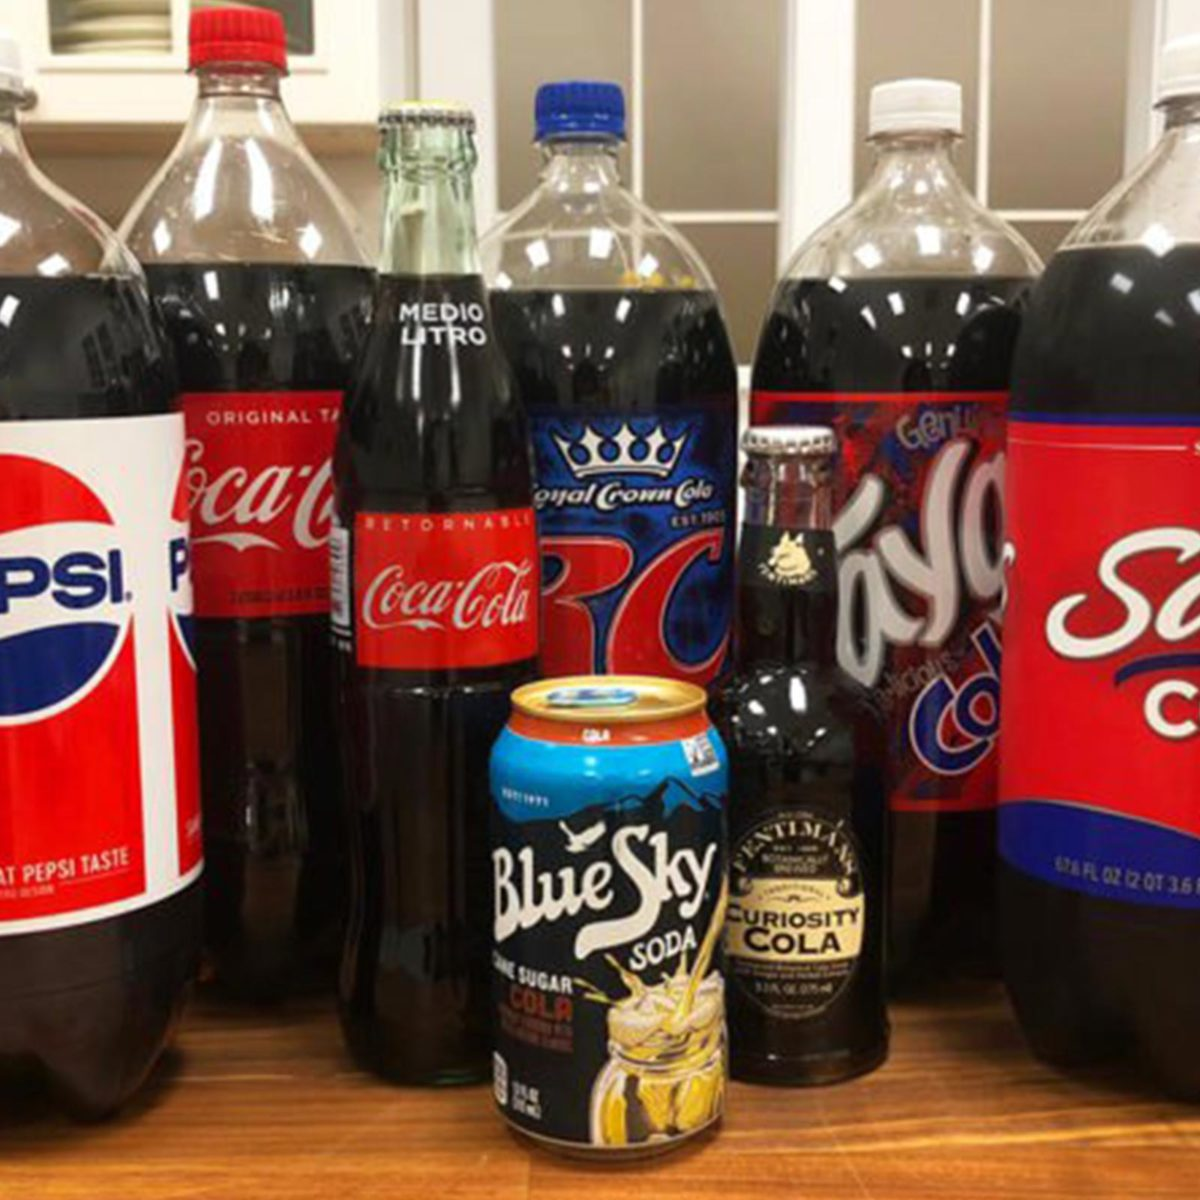pepsi: (4, 451, 121, 715)
